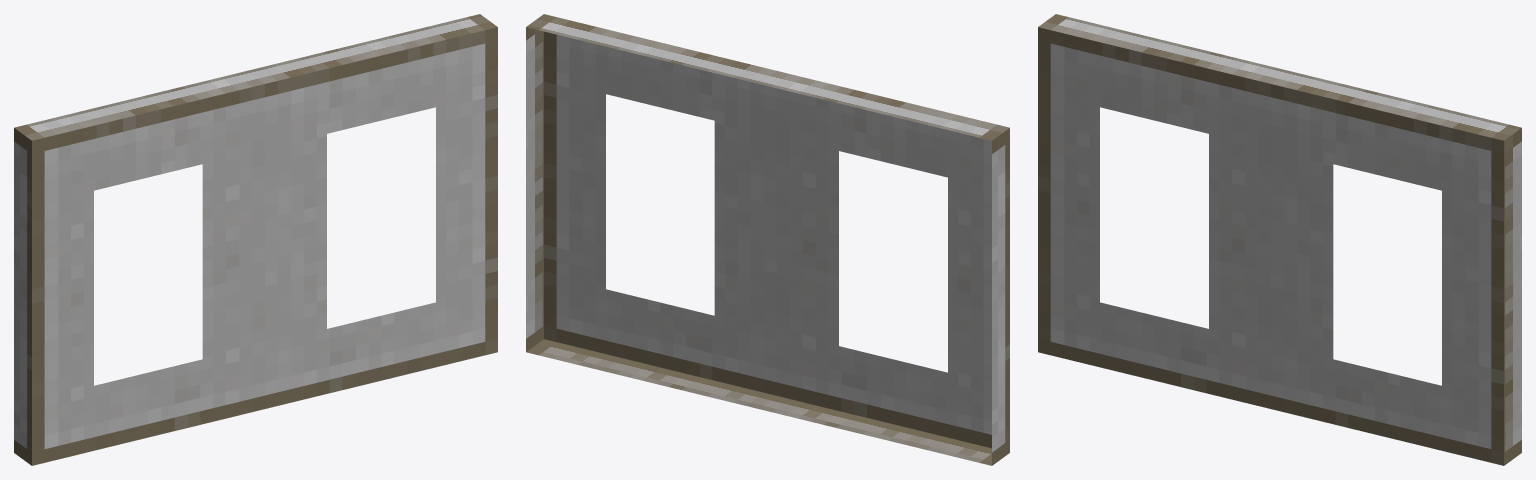
File: SwitchBoard1.fbx
The picture shows the model from 3 angles, left to right: view 1: azimuth 30°, elevation 25°; view 2: azimuth 150°, elevation 25°; view 3: azimuth 330°, elevation 25°; orthographic projection.
Visible parts, largest first — view 1: SwitchBoard1; view 2: SwitchBoard1; view 3: SwitchBoard1.
Boxes of the visible parts, bbox=[...] form: SwitchBoard1: bbox=[14, 14, 497, 465]; SwitchBoard1: bbox=[526, 14, 1009, 465]; SwitchBoard1: bbox=[1038, 14, 1521, 465].
Bounding box in the file's own units: 1 × 15 × 10.
